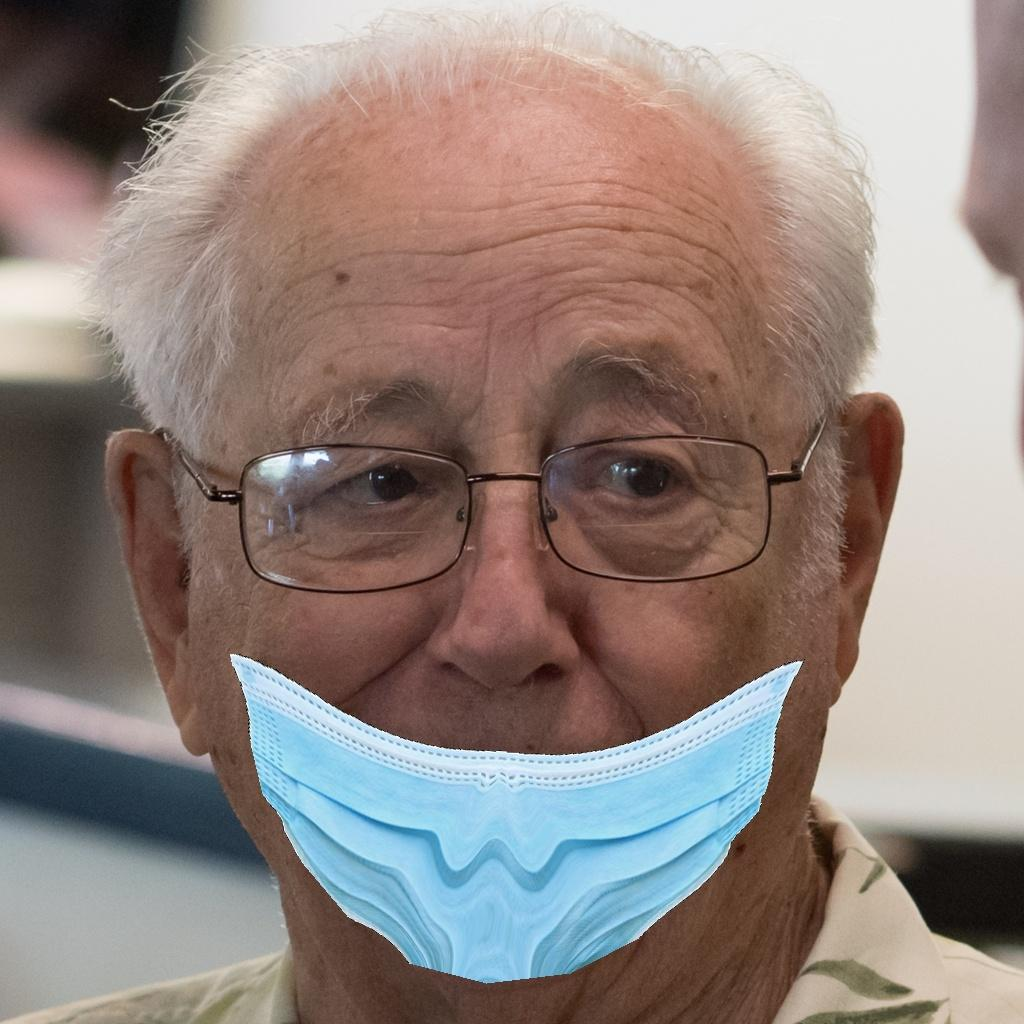Máscara Incorreta: (188, 295, 833, 951)
